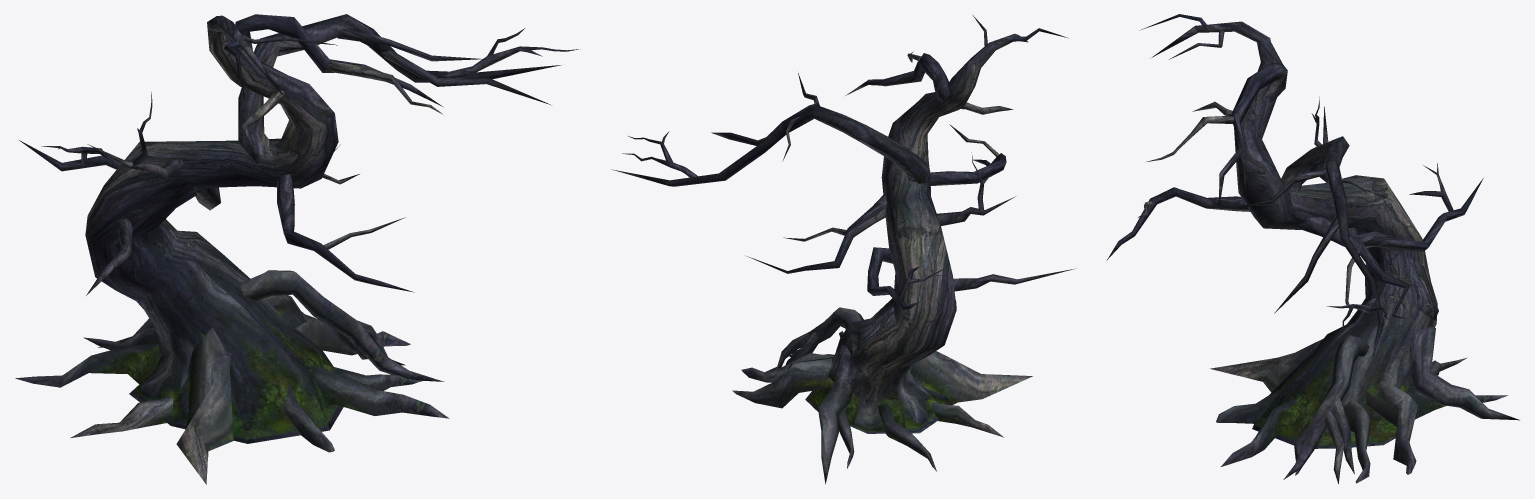
Rendered from Yland2_sg_05 Yland2.FBX.
3 views of the same model, side by side, from view 1: azimuth 30°, elevation 25°; view 2: azimuth 150°, elevation 25°; view 3: azimuth 270°, elevation 25° (orthographic). The views are drawn at different scales.
Parts seen in each view (by area): view 1: Yland2_sg_05 Yland2; view 2: Yland2_sg_05 Yland2; view 3: Yland2_sg_05 Yland2.
Part boxes in pixels (left/top/right/bottom): Yland2_sg_05 Yland2: left=15, top=14, right=580, bottom=484; Yland2_sg_05 Yland2: left=611, top=15, right=1075, bottom=484; Yland2_sg_05 Yland2: left=1106, top=14, right=1519, bottom=483.
Bounding box in the file's own units: 44.58 × 36.49 × 36.02.
